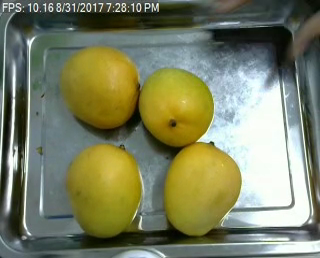Mango: (63, 143, 143, 235), (165, 143, 240, 233), (61, 46, 137, 129), (138, 68, 215, 146)
